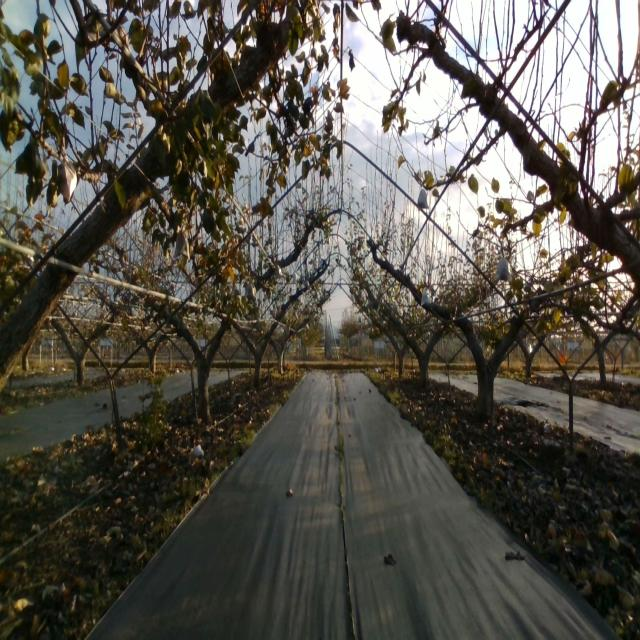pearbags: (58, 146, 78, 203), (173, 224, 190, 263), (494, 257, 512, 282), (418, 187, 430, 210), (421, 288, 432, 306)
